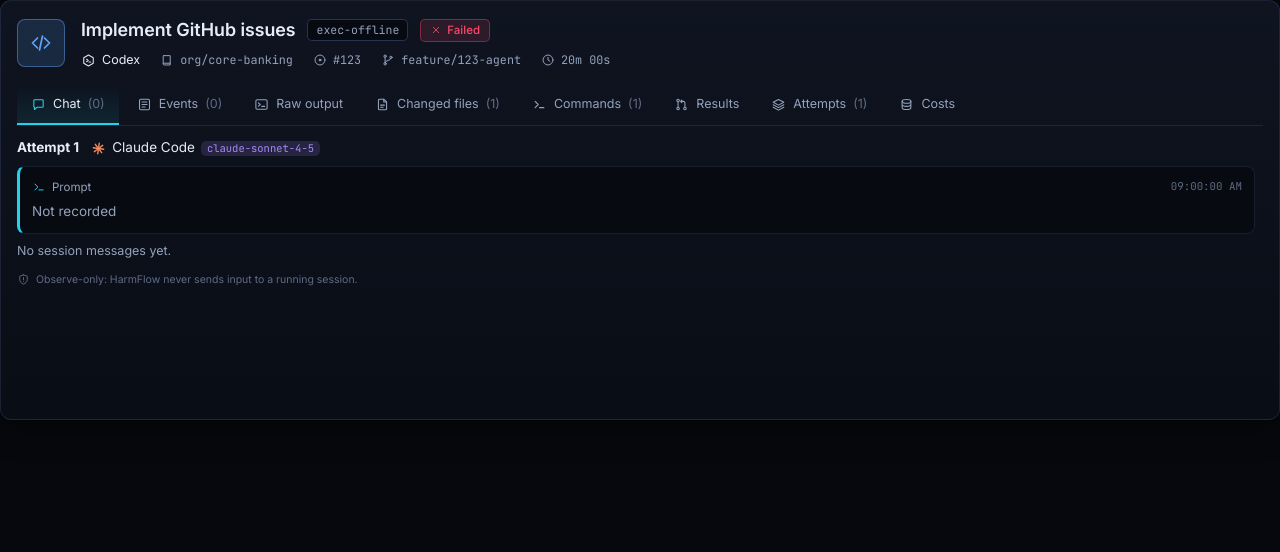
Test: execution detail › labels an attempt that ended on a network failure as one in en-US (harmflow-app#212)
The image size is (1280, 552).
Click the tab "Attempts (1)".
click(819, 105)  # box [757, 85, 881, 125]
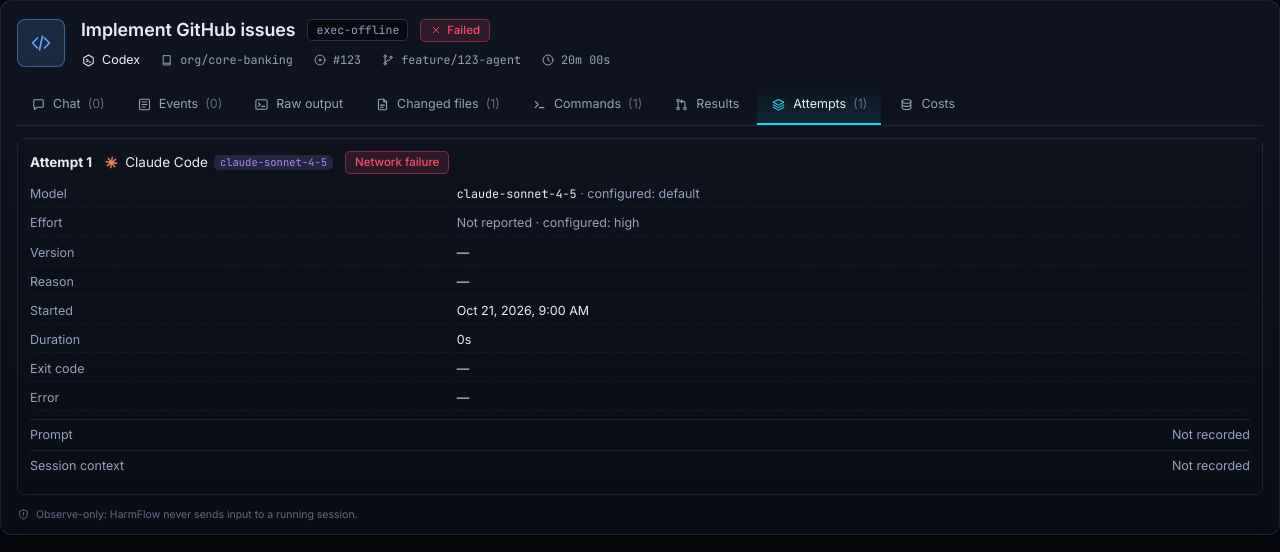
Expected: the header with class "attempt__header" shows "Network failure", [355, 155, 439, 169]
